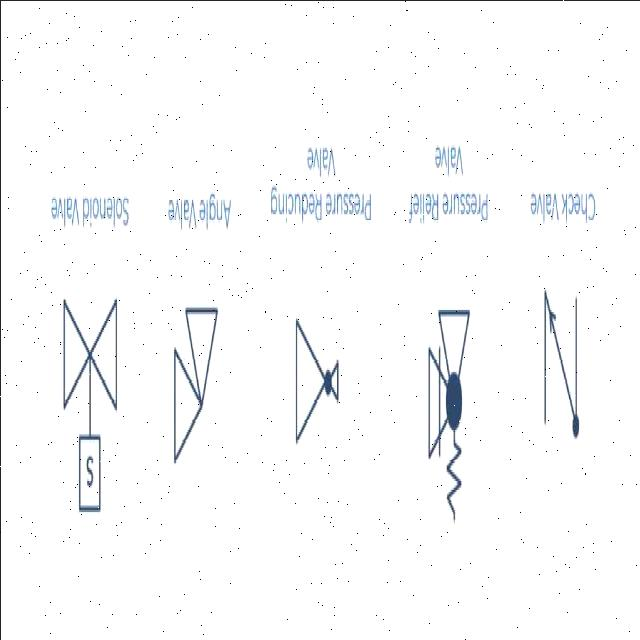Angle Valve: (152, 264, 227, 553)
Check Valve: (531, 254, 594, 491)
PRV: (414, 264, 482, 594), (265, 268, 348, 507)
Solenoid Operated Gate Valve: (46, 270, 124, 568)
